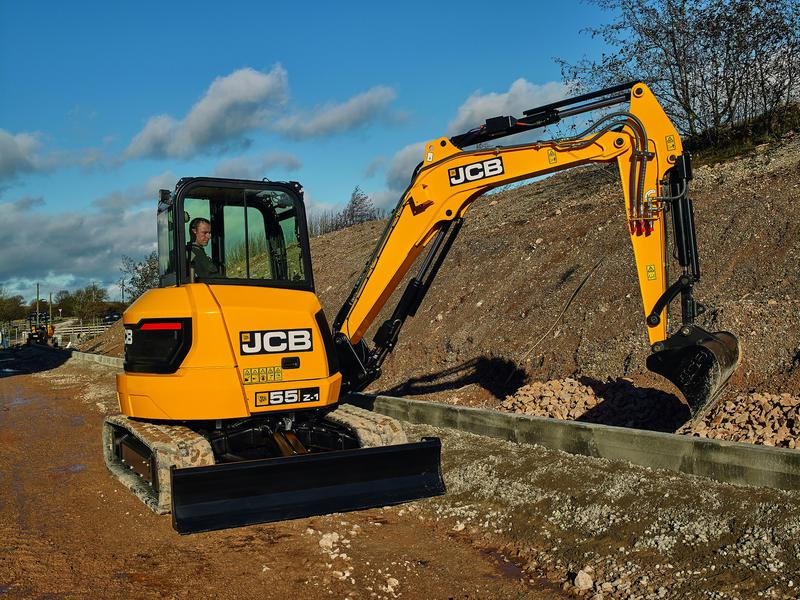shovel: (94, 74, 747, 539)
